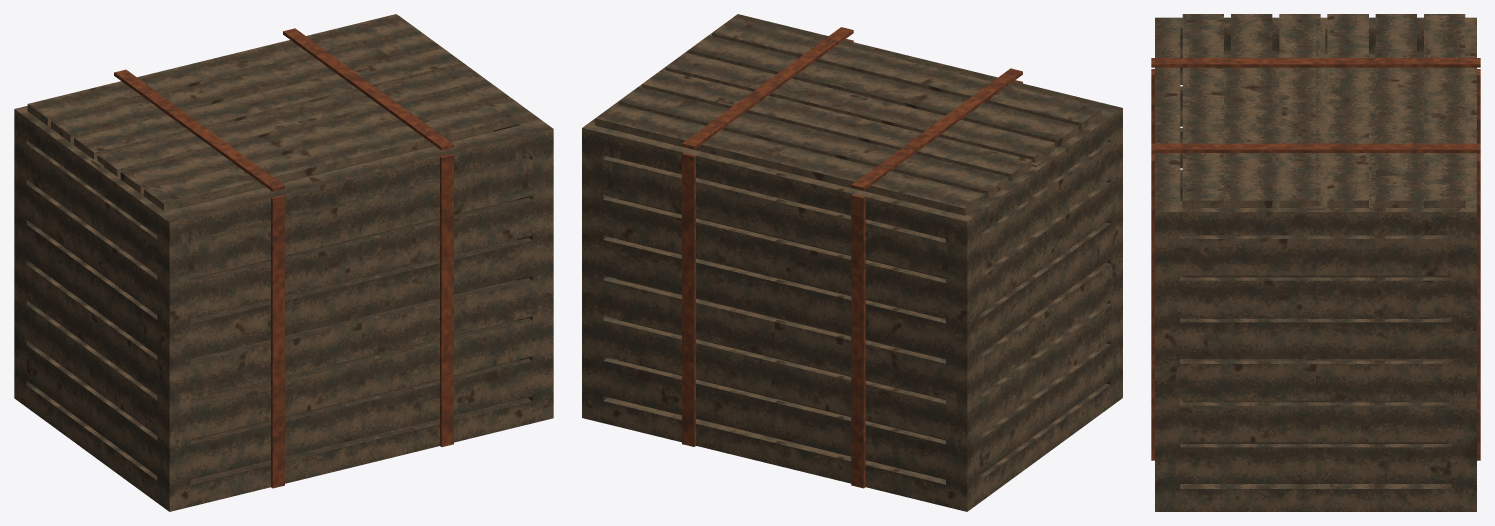
The model's file is prop_crate_wood.glb.
3 views of the same model, side by side, from view 1: azimuth 30°, elevation 25°; view 2: azimuth 150°, elevation 25°; view 3: azimuth 270°, elevation 25° (orthographic). The views are drawn at different scales.
Visible parts, largest first — view 1: crate_wood, crate_lid, crate_straps; view 2: crate_wood, crate_lid, crate_straps; view 3: crate_wood, crate_lid, crate_straps.
Boxes of the visible parts, x1=… form: crate_wood: x1=14, y1=15, x2=553, y2=511; crate_lid: x1=27, y1=14, x2=532, y2=210; crate_straps: x1=114, y1=28, x2=453, y2=488; crate_wood: x1=582, y1=14, x2=1122, y2=511; crate_lid: x1=595, y1=18, x2=1101, y2=215; crate_straps: x1=682, y1=27, x2=1022, y2=488; crate_wood: x1=1155, y1=17, x2=1476, y2=511; crate_lid: x1=1182, y1=14, x2=1465, y2=209; crate_straps: x1=1151, y1=58, x2=1480, y2=460.
Size of the model in its own units: 1 by 0.746 by 0.716.
2 materials, 2 textured.
